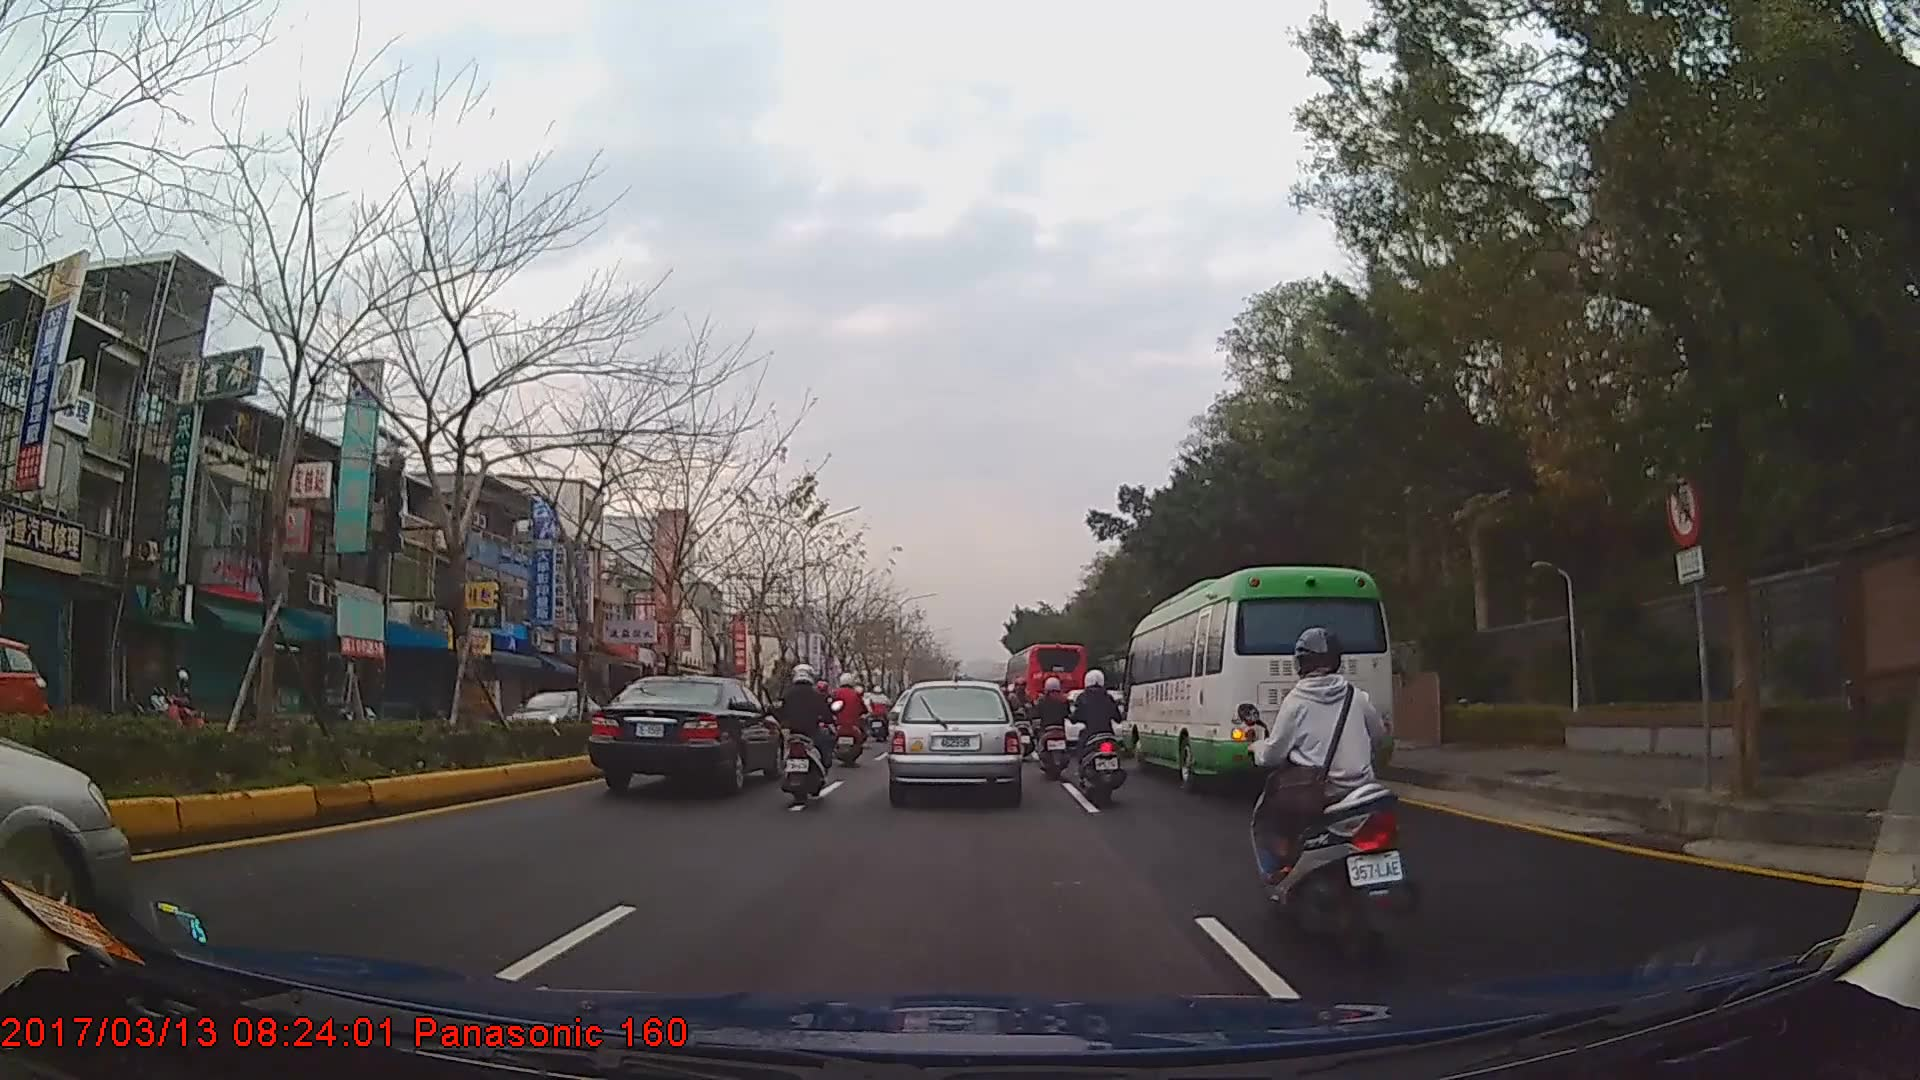rider: (1242, 628, 1413, 955), (776, 660, 842, 805), (1070, 671, 1130, 803), (1032, 673, 1075, 779), (831, 673, 868, 765), (1009, 677, 1035, 757), (846, 684, 872, 741), (869, 683, 892, 732)
vehicle: (1121, 561, 1396, 796), (586, 672, 784, 790), (887, 679, 1021, 804), (1000, 640, 1085, 736), (0, 634, 53, 764), (499, 687, 602, 744)
